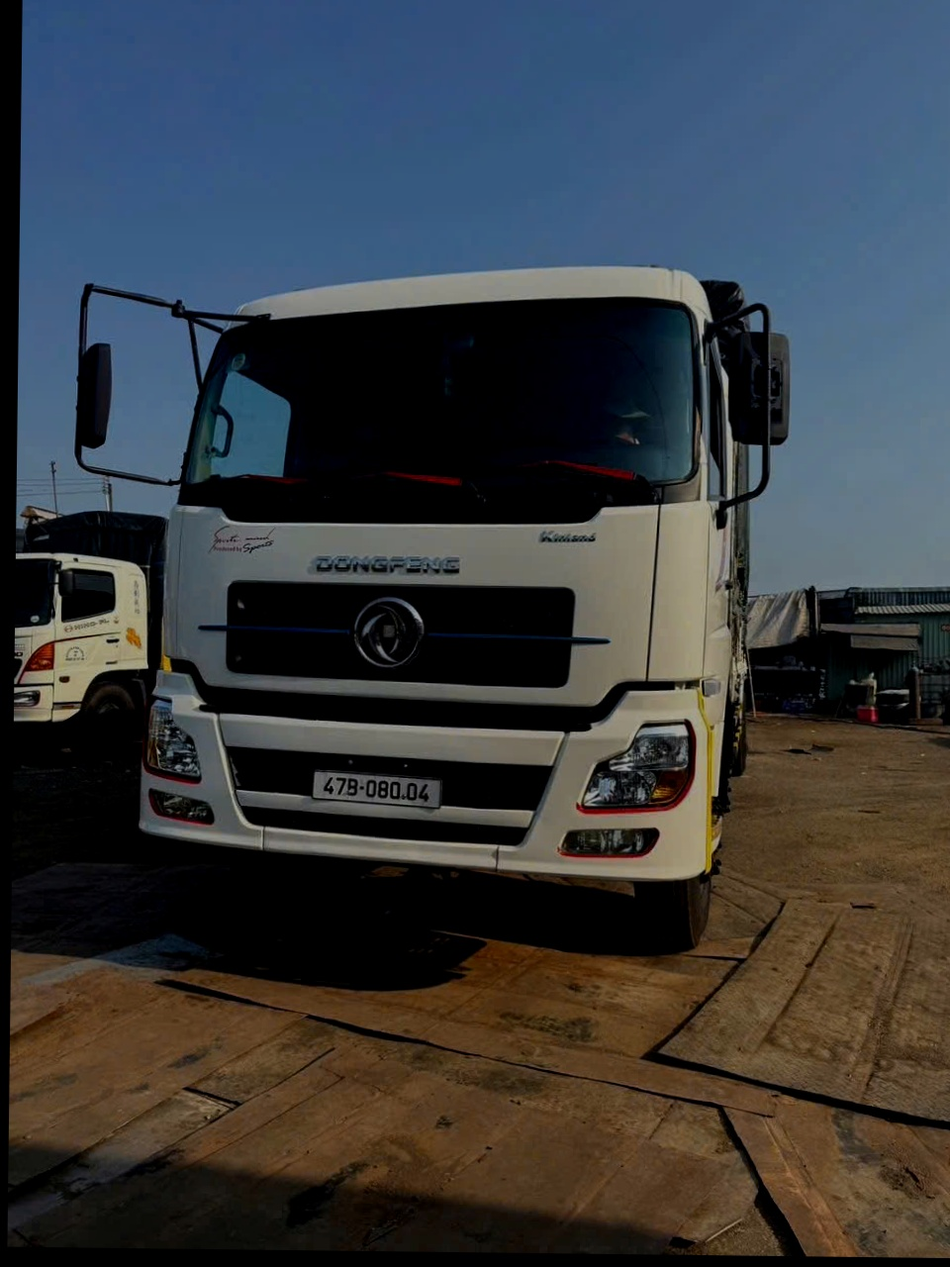Bien-so: (312, 766, 448, 812)
